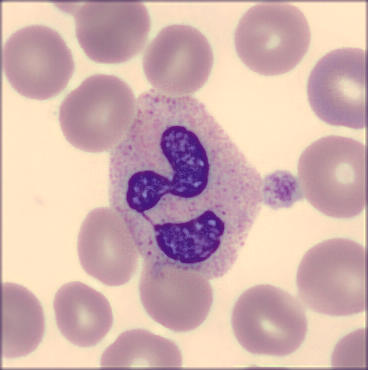WBC: (110, 87, 259, 279)
